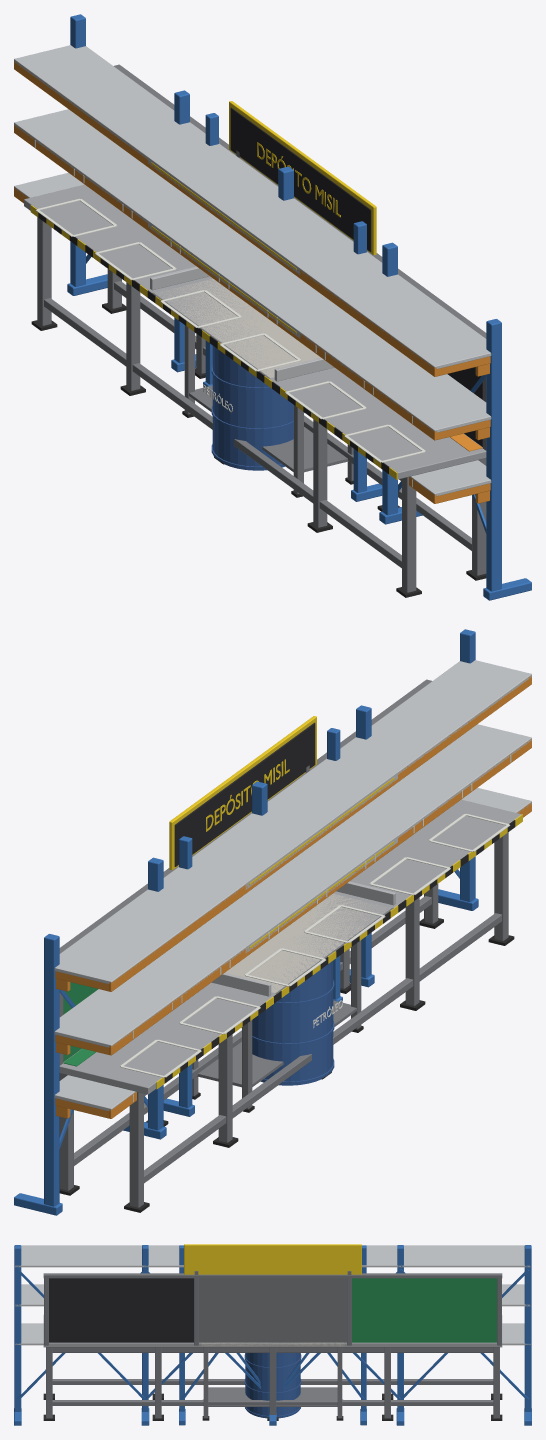
File: objetos.glb
The picture shows the model from 3 angles, top to bottom: view 1: azimuth 30°, elevation 25°; view 2: azimuth 150°, elevation 25°; view 3: azimuth 270°, elevation 25°; orthographic projection. The views are drawn at different scales.
Visible parts, largest first — view 1: rackRobot, depositoMisil, estanteriaRobot, mesaRecepcion, bidonPetroleo; view 2: rackRobot, depositoMisil, estanteriaRobot, mesaRecepcion, bidonPetroleo; view 3: depositoMisil, rackRobot, mesaRecepcion, bidonPetroleo, estanteriaRobot.
Part boxes in pixels (x1,y1,x2,y2): rackRobot: (14,14,531,600); depositoMisil: (24,64,486,597); estanteriaRobot: (148,113,382,501); mesaRecepcion: (152,279,353,497); bidonPetroleo: (203,346,304,470); rackRobot: (14,629,531,1215); depositoMisil: (59,679,522,1212); estanteriaRobot: (163,728,397,1116); mesaRecepcion: (192,894,393,1112); bidonPetroleo: (241,961,342,1085); depositoMisil: (43,1244,502,1420); rackRobot: (14,1245,531,1425); mesaRecepcion: (201,1342,344,1420); bidonPetroleo: (244,1353,301,1418); estanteriaRobot: (179,1245,366,1425).
Bounding box in the file's own units: 0.84 × 2.03 × 5.42.
